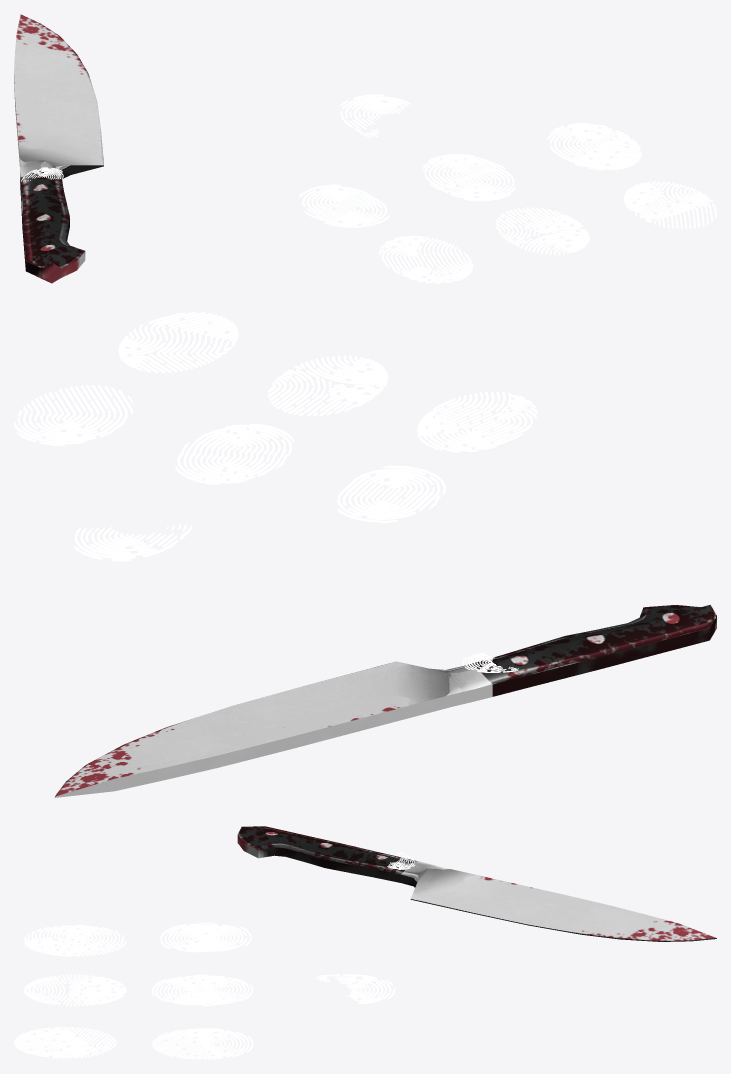
Rendered from digitais.fbx.
3 views of the same model, one above another, from view 1: azimuth 30°, elevation 25°; view 2: azimuth 150°, elevation 25°; view 3: azimuth 270°, elevation 25° (orthographic). The views are drawn at different scales.
Parts seen in each view (by area): view 1: Faca, Layer.052, Layer.083, Layer.170, Layer.238, Layer.119, Layer.008, Path 0; view 2: Faca, Layer.119, Layer.170, Layer.238, Layer.083, Layer.052, Layer.008, Path 0; view 3: Faca, Layer.238, Layer.052, Layer.119, Layer.083, Layer.170, Layer.008, Path 0.
Boxes of the visible parts, x1=… form: Faca: x1=14, y1=14, x2=103, y2=283; Layer.052: x1=548, y1=123, x2=641, y2=170; Layer.083: x1=422, y1=154, x2=516, y2=201; Layer.170: x1=495, y1=207, x2=589, y2=254; Layer.238: x1=624, y1=181, x2=716, y2=229; Layer.119: x1=379, y1=236, x2=472, y2=283; Layer.008: x1=298, y1=184, x2=389, y2=227; Path 0: x1=340, y1=94, x2=410, y2=137; Faca: x1=54, y1=605, x2=716, y2=797; Layer.119: x1=417, y1=391, x2=537, y2=452; Layer.170: x1=268, y1=355, x2=387, y2=416; Layer.238: x1=118, y1=312, x2=238, y2=372; Layer.083: x1=175, y1=423, x2=294, y2=484; Layer.052: x1=14, y1=385, x2=133, y2=445; Layer.008: x1=337, y1=465, x2=446, y2=522; Path 0: x1=74, y1=522, x2=191, y2=561; Faca: x1=237, y1=826, x2=716, y2=941; Layer.238: x1=14, y1=1027, x2=116, y2=1058; Layer.052: x1=152, y1=1028, x2=253, y2=1059; Layer.119: x1=24, y1=925, x2=126, y2=956; Layer.083: x1=152, y1=974, x2=253, y2=1006; Layer.170: x1=24, y1=974, x2=126, y2=1006; Layer.008: x1=160, y1=922, x2=251, y2=952; Path 0: x1=315, y1=974, x2=395, y2=1004.
Size of the model in its own units: 169 by 7.5 by 208.
Materials: 2 (1 with a texture image).
